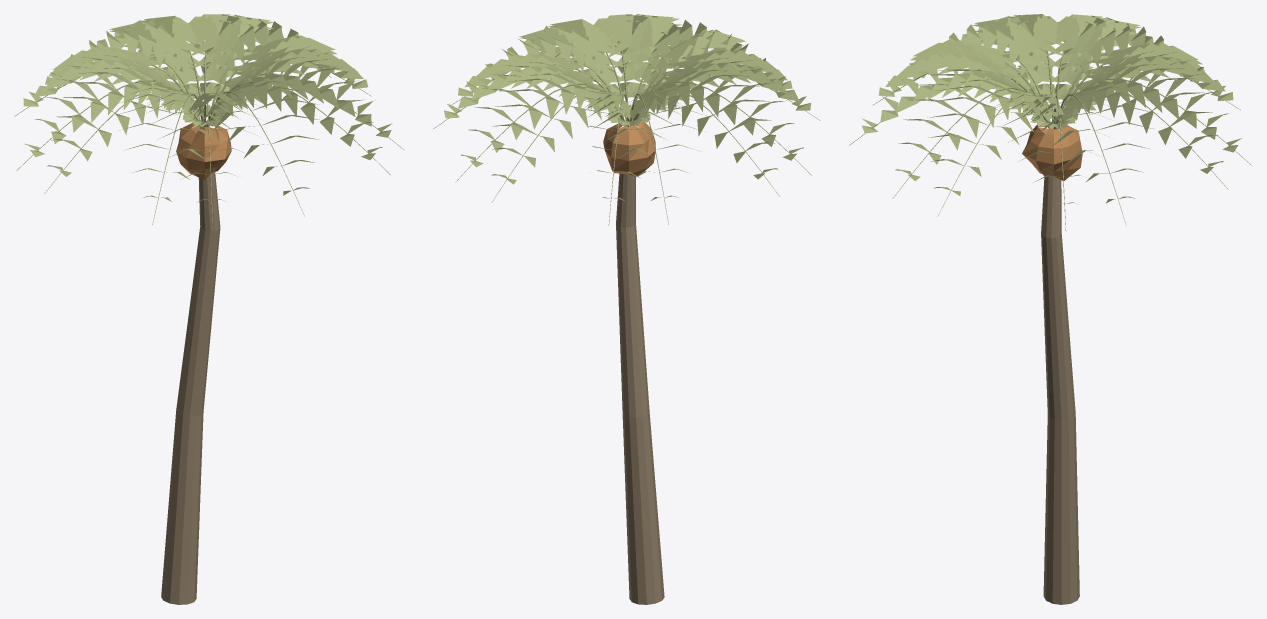
File: desert-canyons-and-oases-date-palm-mature-0b1de429__20972.glb
3 views of the same model, side by side, from view 1: azimuth 30°, elevation 25°; view 2: azimuth 150°, elevation 25°; view 3: azimuth 270°, elevation 25° (orthographic). The views are drawn at different scales.
Visible parts, largest first — view 1: date-palm-mature; view 2: date-palm-mature; view 3: date-palm-mature.
Part boxes in pixels (left/top/right/bottom): date-palm-mature: left=14, top=14, right=403, bottom=604; date-palm-mature: left=433, top=14, right=820, bottom=604; date-palm-mature: left=849, top=14, right=1252, bottom=604.
Size of the model in its own units: 6.29 by 9.35 by 6.23.
